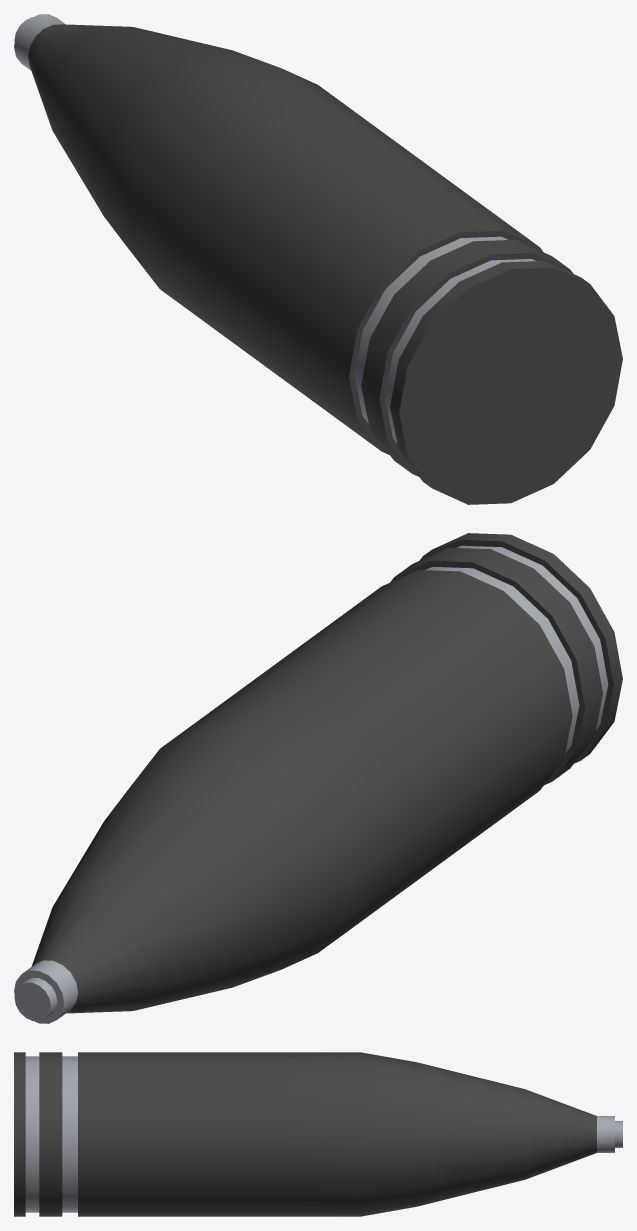
File: heat_bullet_88.fbx
3 renders of one model, top to bottom at view 1: azimuth 30°, elevation 25°; view 2: azimuth 150°, elevation 25°; view 3: azimuth 270°, elevation 25°, orthographic. The views are drawn at different scales.
Parts seen in each view (by area): view 1: Case; view 2: Case; view 3: Case.
Boxes of the visible parts, box(x1,y1,x2,y2) form: Case: box(14, 14, 622, 504); Case: box(14, 533, 622, 1023); Case: box(14, 1052, 622, 1216).
Size of the model in its own units: 81 by 81 by 300.
